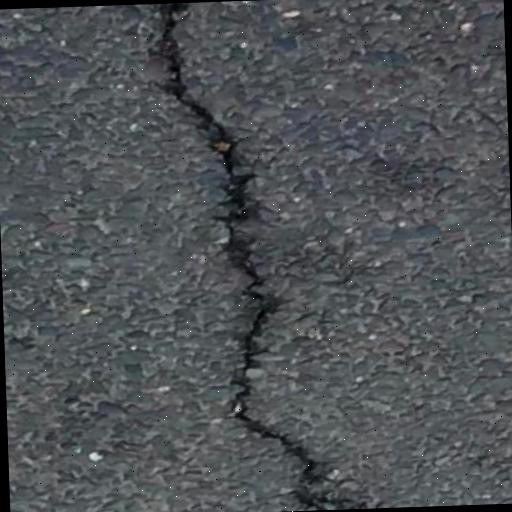spalling: (151, 4, 341, 509)
